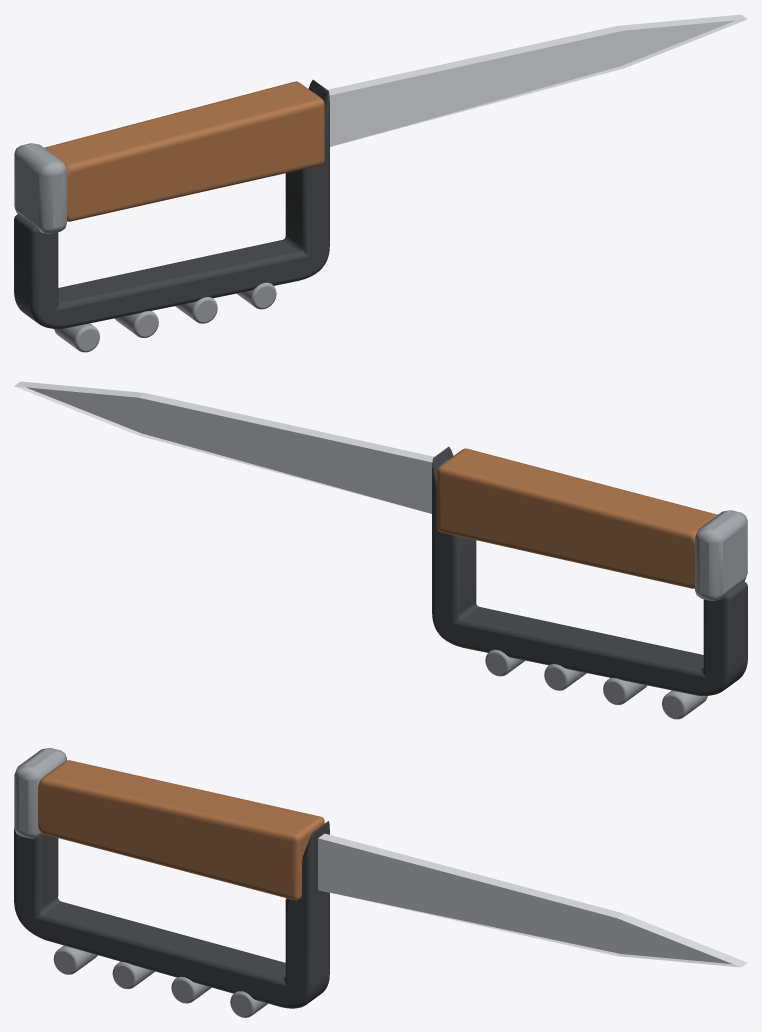
File: knife_trench.glb
3 renders of one model, top to bottom at view 1: azimuth 30°, elevation 25°; view 2: azimuth 150°, elevation 25°; view 3: azimuth 330°, elevation 25°, orthographic.
Visible parts, largest first — view 1: lod_skin_wood, lod_metal_dark, lod_skin_blade, lod_metal_steel; view 2: lod_skin_wood, lod_metal_dark, lod_skin_blade, lod_metal_steel; view 3: lod_skin_wood, lod_metal_dark, lod_skin_blade, lod_metal_steel.
Boxes of the visible parts, x1,y1,x2,y2 form: lod_skin_wood: (44,81,324,221); lod_metal_dark: (14,79,329,328); lod_skin_blade: (314,14,747,146); lod_metal_steel: (14,143,276,352); lod_skin_wood: (437,448,717,588); lod_metal_dark: (432,446,747,695); lod_skin_blade: (14,381,447,513); lod_metal_steel: (485,510,747,719); lod_skin_wood: (38,760,324,900); lod_metal_dark: (14,821,329,1008); lod_skin_blade: (318,833,747,967); lod_metal_steel: (14,748,267,1017).
Bounding box in the file's own units: 0.319 × 0.0845 × 0.026.
